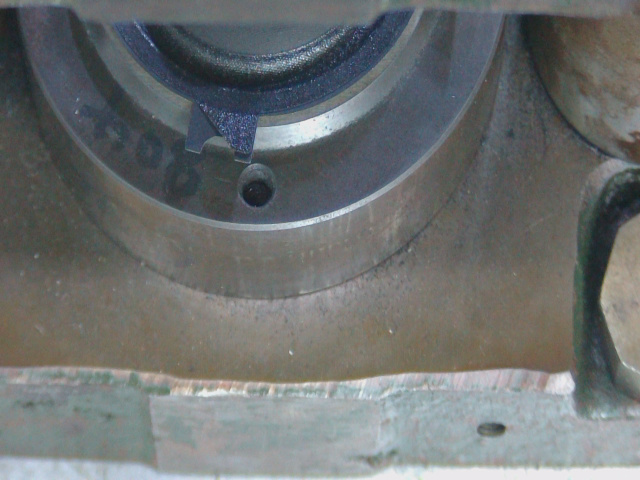OK: (184, 102, 270, 171)
